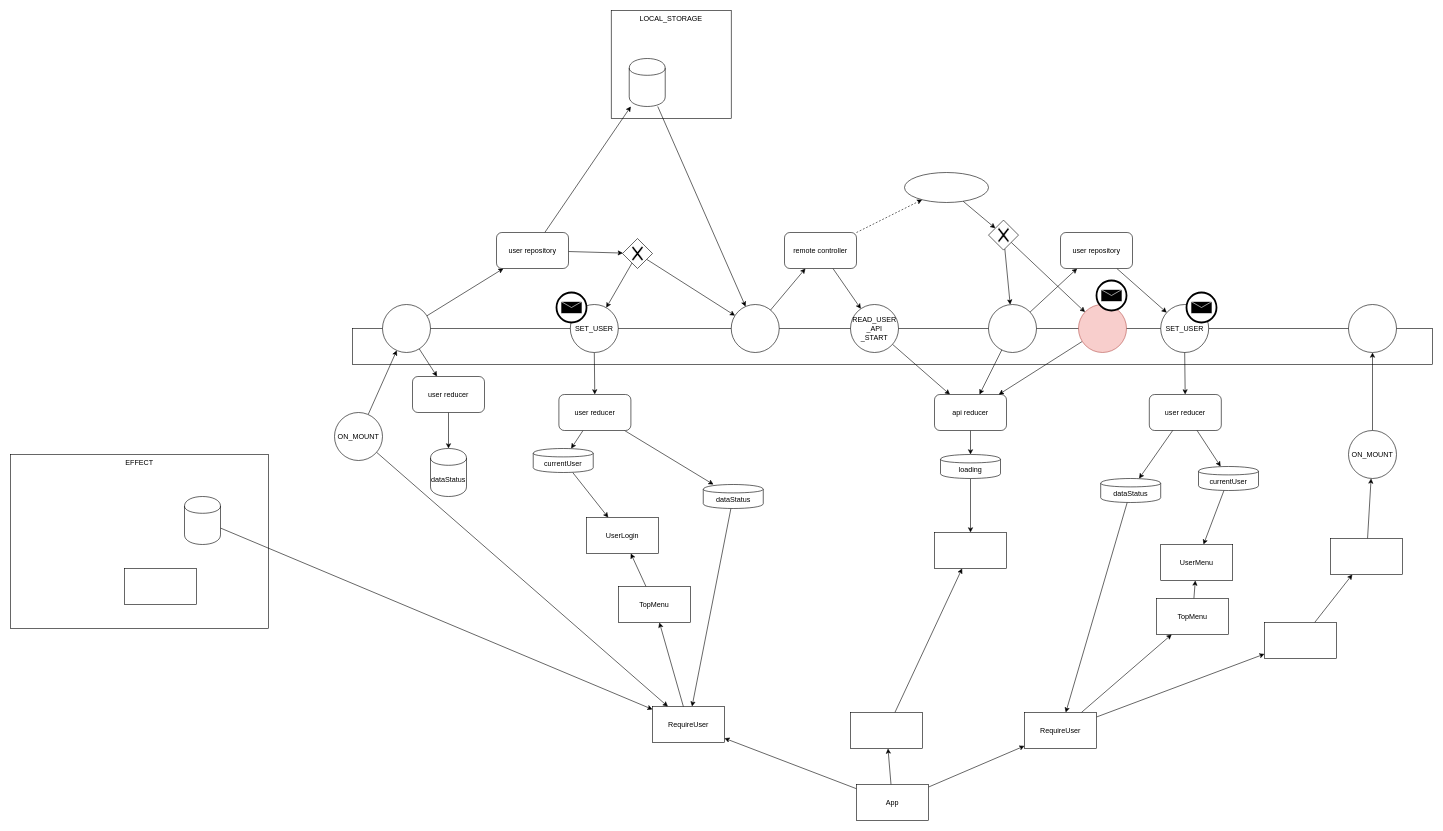
This 1443x831 diagram has some shape labels left out. Each missing label, with the centre of its shape:
apiCall: (946,187)
NOT_ASKED: (160,586)
Notification: (886,730)
ProgressBar: (970,550)
READ_CATEGORIES: (1372,328)
READ_USER: (406,328)
READ_USER _API: (755,328)
READ_USER _API _FAIL: (1102,328)
READ_USER _API _SUCCESS: (1012,328)
RegisteredUser: (1300,640)
RequireCategories: (1366,556)
token: (647,82)
user dataStatus: (202,520)
